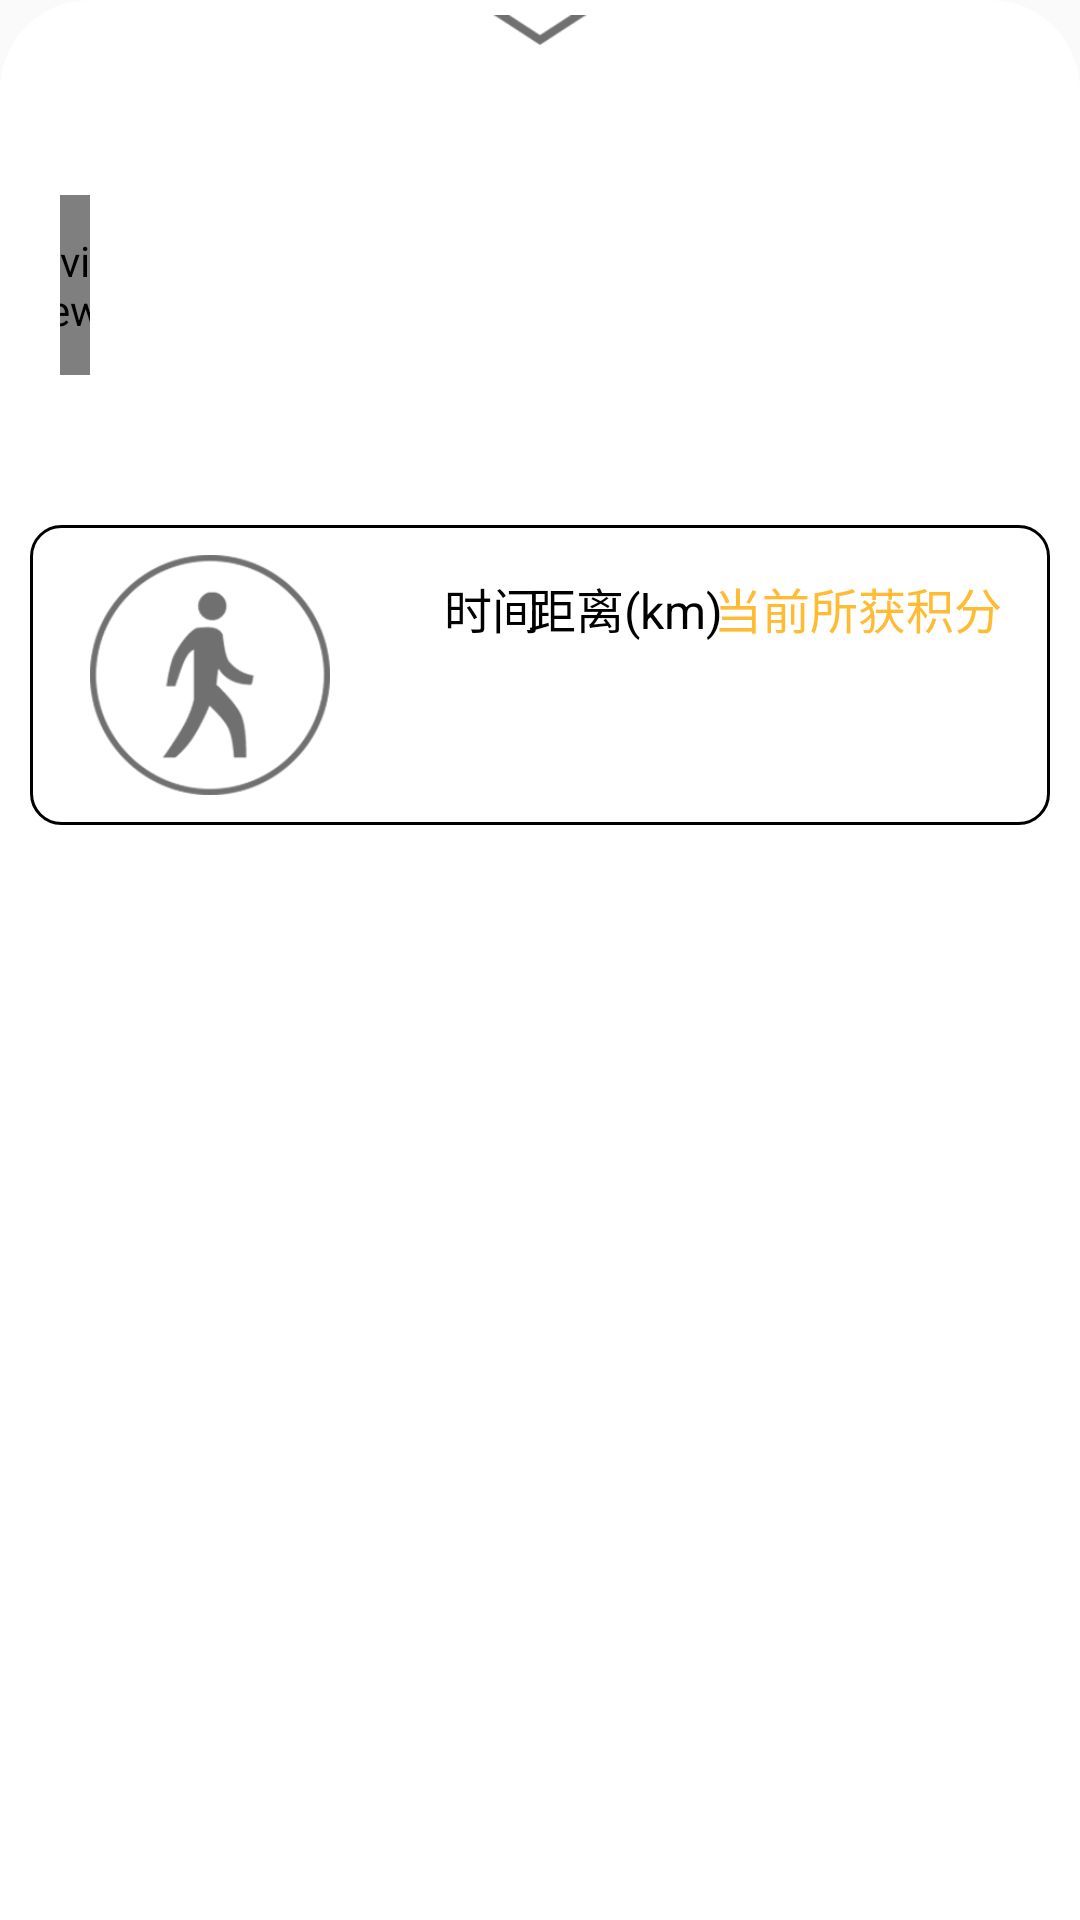

Named icons in this screenshot (1080×1920) and their centers, (x,y):
arrow down: (540,30)
walk: (210,675)
